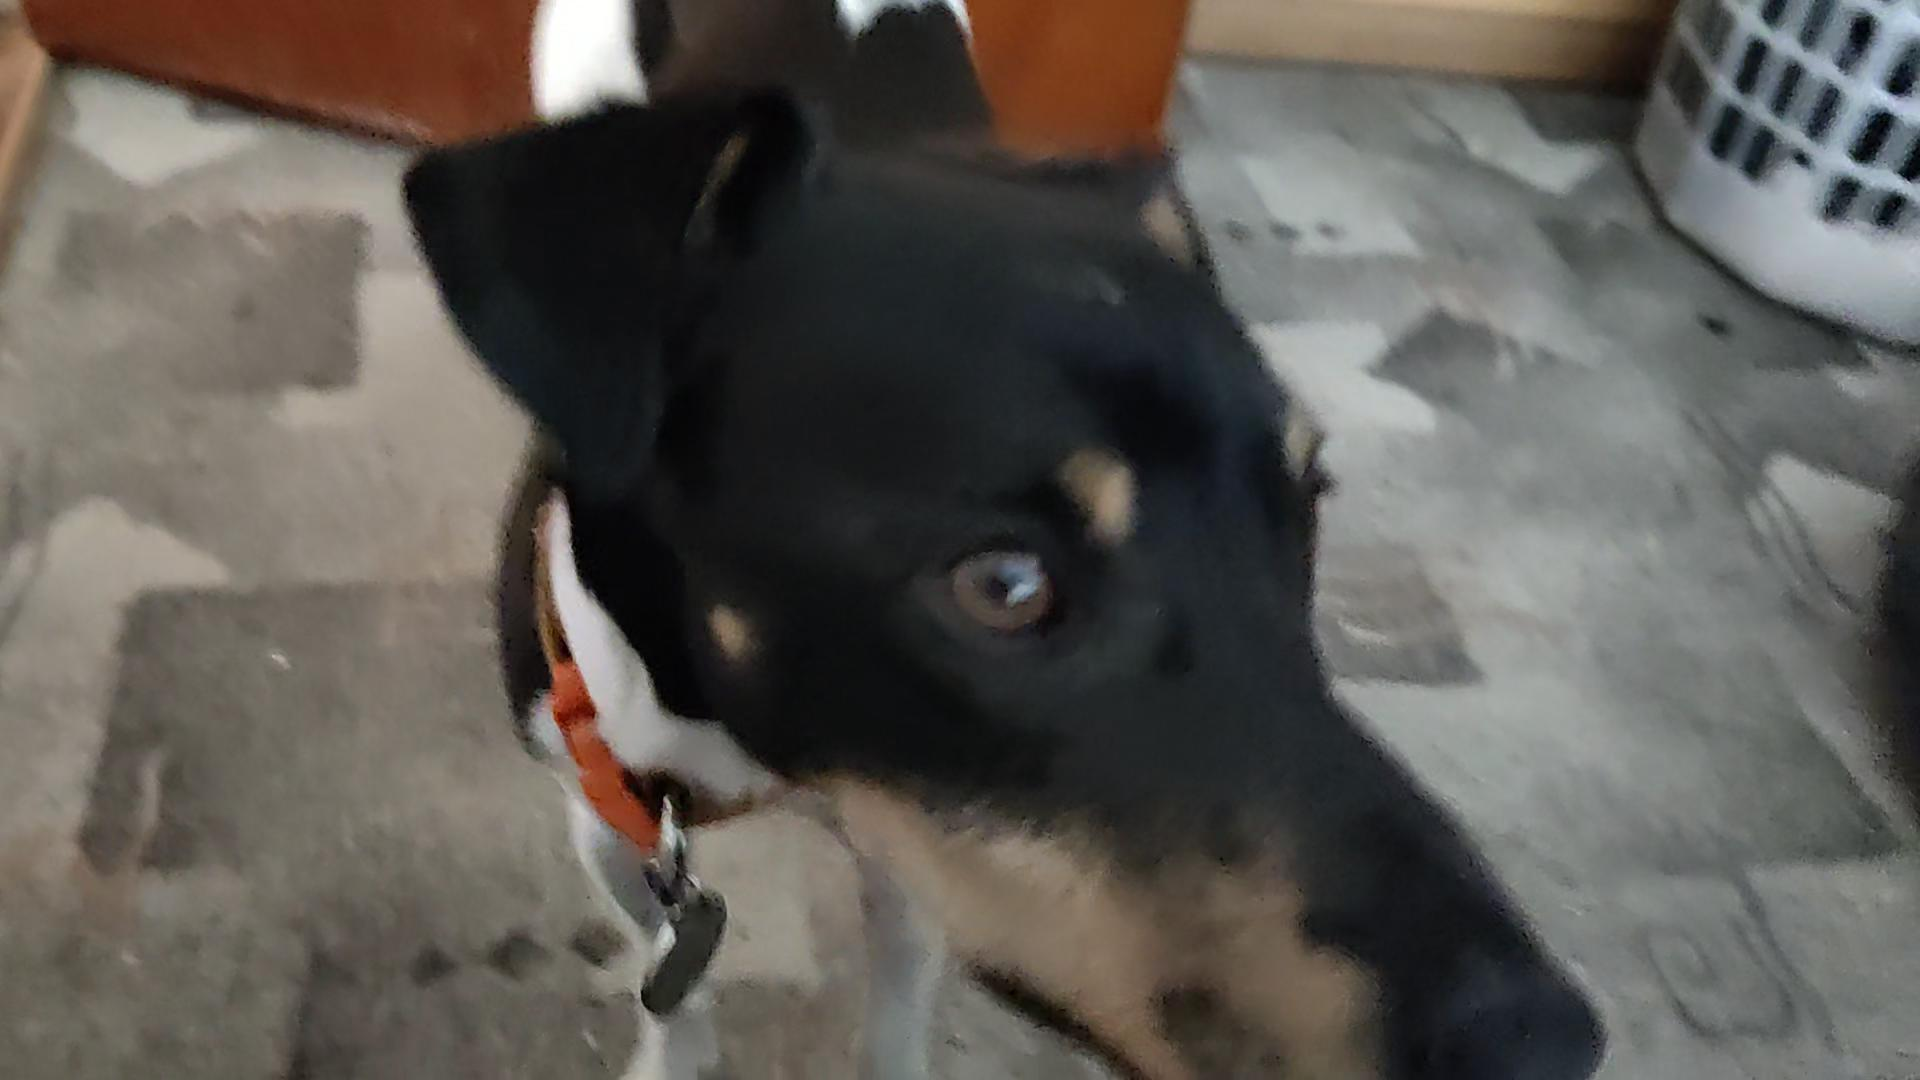Dog: (400, 0, 1610, 1079)
